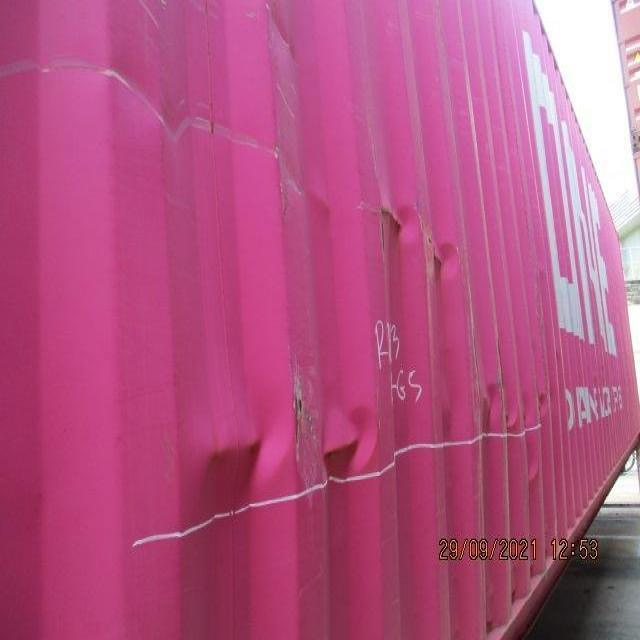Deframe_or_Dent: (170, 336, 557, 535), (354, 178, 473, 302)
